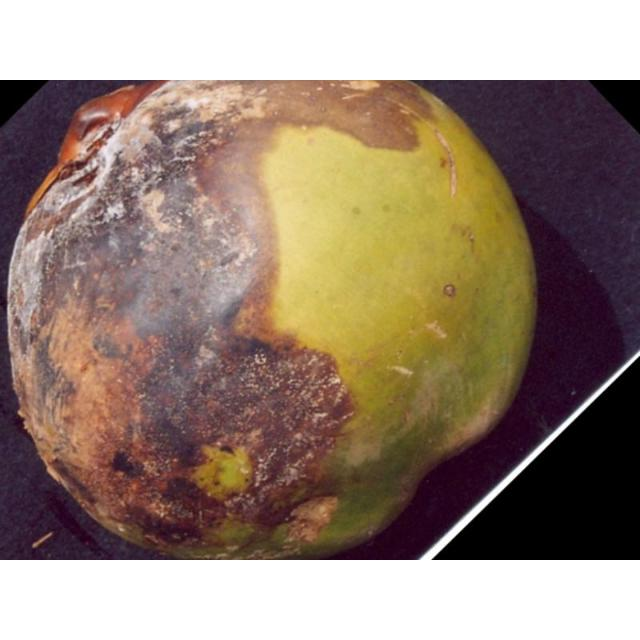damaged: (4, 80, 541, 559)
